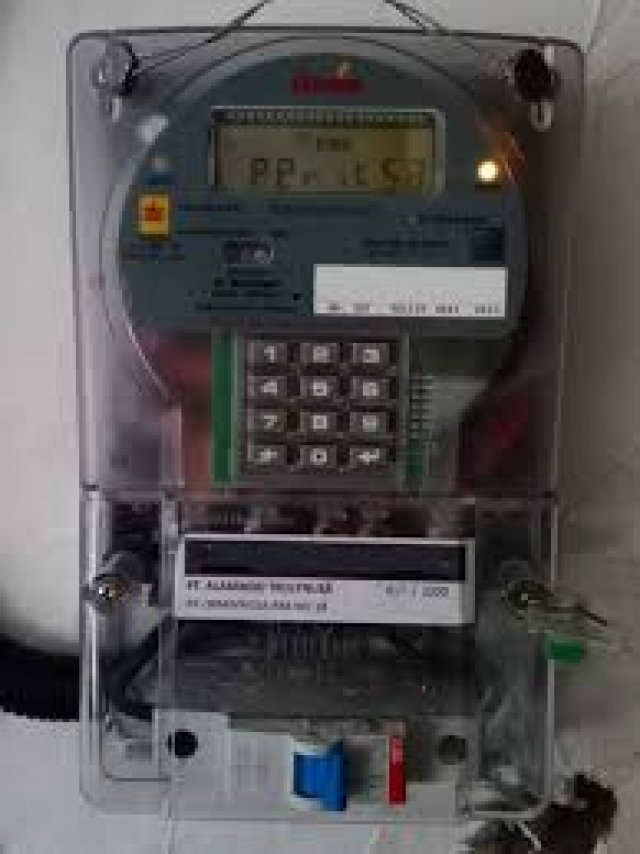box: (218, 120, 438, 198)
